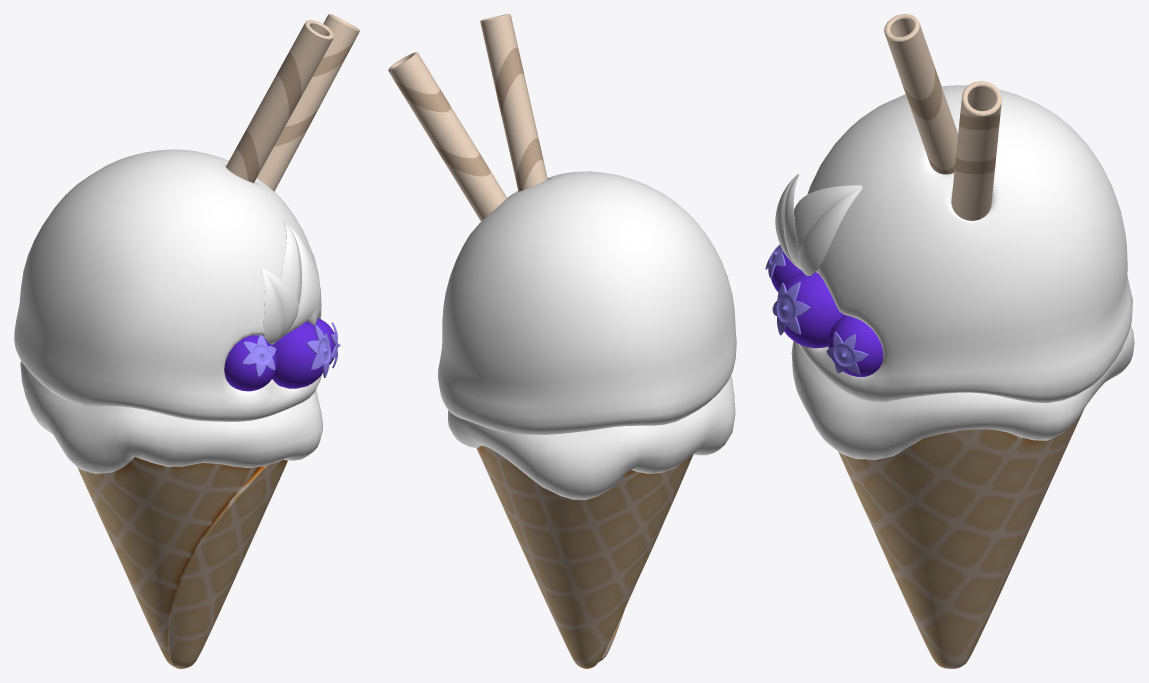
The model's file is Project Name.gltf.
3 views of the same model, side by side, from view 1: azimuth 30°, elevation 25°; view 2: azimuth 150°, elevation 25°; view 3: azimuth 270°, elevation 25° (orthographic). The views are drawn at different scales.
Visible parts, largest first — view 1: Pink ice cream, Cornet, Purple ice cream, Cornet sticks, Blueberries, Cornet sticks stripes, Leaf 2, Leaf 1, Top of the blueberris; view 2: Pink ice cream, Cornet, Purple ice cream, Cornet sticks, Cornet sticks stripes; view 3: Pink ice cream, Cornet, Purple ice cream, Cornet sticks, Blueberries, Leaf 2, Top of the blueberris, Cornet sticks stripes, Leaf 1.
Boxes of the visible parts, bbox=[...] form: Pink ice cream: bbox=[14, 149, 321, 421]; Cornet: bbox=[77, 457, 287, 668]; Purple ice cream: bbox=[20, 361, 322, 473]; Cornet sticks: bbox=[226, 14, 359, 191]; Blueberries: bbox=[224, 318, 334, 391]; Cornet sticks stripes: bbox=[236, 40, 354, 182]; Leaf 2: bbox=[280, 222, 319, 337]; Leaf 1: bbox=[261, 268, 298, 344]; Top of the blueberris: bbox=[242, 322, 340, 377]; Pink ice cream: bbox=[438, 171, 736, 434]; Cornet: bbox=[476, 445, 693, 668]; Purple ice cream: bbox=[448, 375, 735, 499]; Cornet sticks: bbox=[388, 14, 547, 221]; Cornet sticks stripes: bbox=[392, 47, 543, 191]; Pink ice cream: bbox=[798, 85, 1132, 402]; Cornet: bbox=[838, 409, 1083, 668]; Purple ice cream: bbox=[791, 325, 1134, 459]; Cornet sticks: bbox=[884, 14, 1001, 220]; Blueberries: bbox=[771, 253, 883, 376]; Leaf 2: bbox=[794, 185, 862, 275]; Top of the blueberris: bbox=[765, 244, 868, 374]; Cornet sticks stripes: bbox=[902, 61, 1000, 174]; Leaf 1: bbox=[775, 174, 801, 270].
Size of the model in its own units: 0.1069 by 0.1992 by 0.0936.
8 materials, 1 textured.
